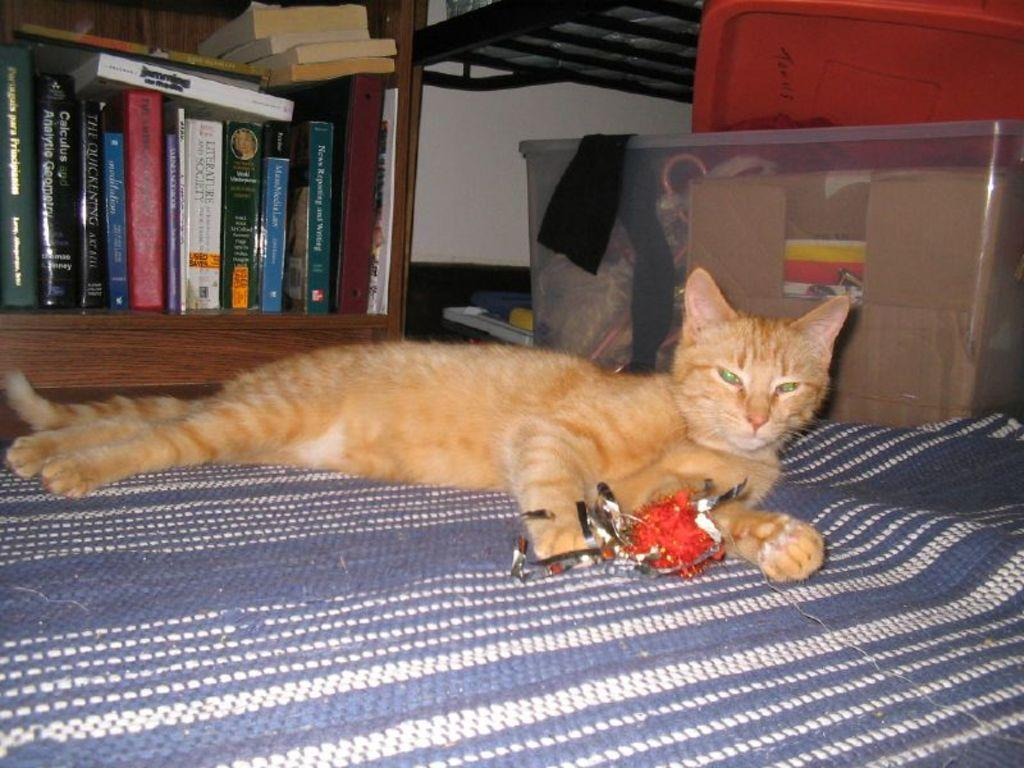Book: (81, 45, 291, 125), (10, 15, 262, 81), (114, 84, 170, 312), (278, 115, 343, 311), (191, 3, 372, 67), (38, 73, 81, 317), (182, 114, 229, 319), (0, 41, 35, 312), (255, 124, 294, 317), (367, 82, 399, 316), (233, 35, 401, 79), (211, 24, 367, 70), (223, 120, 257, 315), (82, 105, 113, 312), (244, 55, 408, 93), (109, 131, 133, 306), (170, 102, 187, 311), (169, 127, 178, 316)
